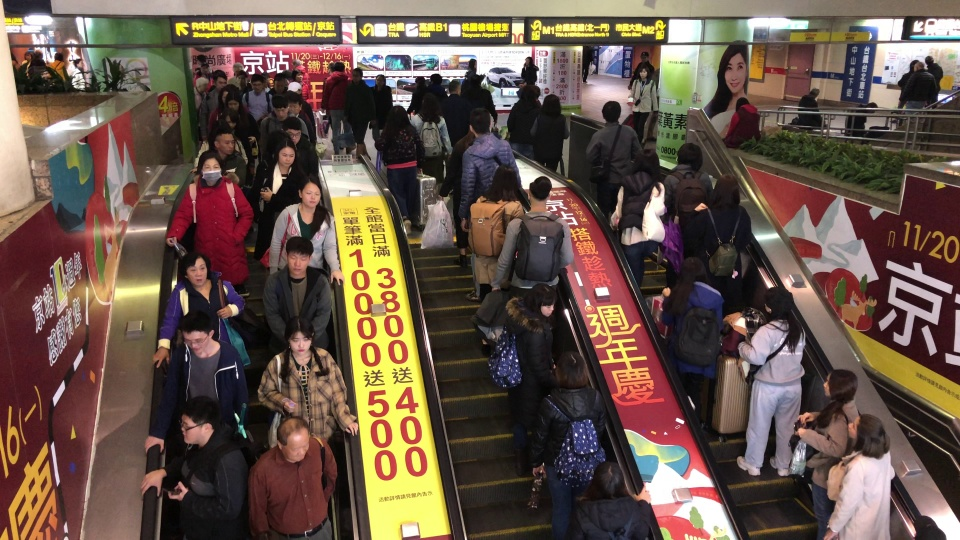person_head: (671, 254, 708, 310), (180, 396, 218, 448), (281, 319, 325, 363), (843, 415, 888, 458), (529, 280, 560, 342), (272, 416, 312, 462), (176, 313, 213, 359), (817, 371, 864, 406), (761, 285, 804, 321), (591, 462, 626, 502), (484, 161, 519, 201), (182, 248, 213, 291), (554, 351, 589, 389), (284, 236, 314, 278), (635, 150, 660, 195), (712, 174, 742, 208), (199, 150, 224, 188), (915, 510, 944, 540), (469, 107, 494, 141), (298, 177, 322, 209), (676, 143, 701, 172), (529, 177, 551, 208), (276, 143, 297, 171), (223, 108, 241, 139), (214, 129, 236, 153), (602, 99, 621, 126), (271, 92, 289, 119), (284, 117, 302, 144), (389, 106, 407, 131), (225, 90, 241, 113), (543, 92, 559, 115), (193, 74, 208, 93), (446, 76, 460, 96), (288, 81, 303, 99), (521, 83, 533, 105), (272, 72, 284, 92), (734, 96, 750, 111), (215, 73, 228, 91), (250, 74, 262, 93), (414, 74, 426, 90), (350, 66, 364, 79), (429, 74, 443, 87), (217, 87, 228, 103), (467, 56, 478, 72), (639, 66, 650, 82), (233, 60, 245, 74), (235, 69, 246, 83), (373, 74, 387, 85), (866, 100, 877, 114), (808, 86, 820, 98), (282, 68, 292, 82), (72, 57, 83, 69), (332, 60, 343, 72), (293, 69, 303, 82), (639, 50, 649, 62), (24, 49, 32, 63), (53, 51, 64, 61), (291, 58, 302, 68), (197, 52, 205, 65), (200, 63, 209, 74), (914, 61, 923, 72), (34, 48, 42, 59), (28, 47, 36, 56), (534, 84, 539, 98), (523, 57, 531, 65), (925, 56, 932, 65), (327, 63, 333, 73), (909, 59, 914, 71)
person_vbox: (138, 313, 249, 459), (252, 312, 362, 446), (735, 286, 811, 478), (143, 398, 244, 540), (658, 273, 724, 490), (531, 349, 606, 536), (488, 177, 574, 332), (165, 149, 253, 299), (510, 280, 574, 485), (790, 366, 865, 540), (149, 246, 249, 371), (244, 412, 339, 540), (461, 106, 520, 305), (268, 175, 347, 289), (826, 413, 896, 540), (261, 235, 334, 356), (699, 177, 753, 339), (469, 159, 529, 304), (565, 456, 663, 540), (439, 108, 489, 272), (582, 95, 646, 220), (608, 147, 663, 286), (379, 104, 425, 237), (666, 140, 711, 272), (253, 141, 299, 262), (188, 118, 249, 174), (536, 92, 570, 179), (898, 58, 936, 132), (258, 92, 311, 143), (281, 116, 319, 179), (628, 68, 657, 150), (325, 59, 348, 154), (210, 125, 247, 184), (348, 67, 370, 166), (508, 83, 536, 160), (725, 96, 763, 151), (225, 90, 261, 147), (464, 76, 500, 132), (444, 74, 466, 147), (373, 74, 393, 152), (626, 49, 661, 93), (220, 104, 250, 155), (242, 72, 273, 120), (288, 82, 316, 134), (798, 86, 829, 131), (846, 101, 878, 139), (898, 58, 914, 133), (425, 69, 448, 120), (461, 55, 490, 85), (209, 82, 225, 134), (926, 56, 943, 104), (407, 74, 425, 117), (47, 49, 69, 83), (27, 48, 47, 83), (291, 68, 309, 105), (520, 53, 540, 84), (192, 72, 208, 110), (70, 56, 87, 91), (320, 58, 332, 107), (268, 70, 290, 96), (291, 59, 310, 89), (226, 57, 247, 84), (194, 63, 213, 91), (583, 47, 595, 89), (19, 47, 33, 81), (209, 68, 225, 94), (194, 50, 210, 74), (234, 68, 250, 92), (262, 69, 272, 90), (10, 52, 19, 72), (533, 84, 541, 106)
